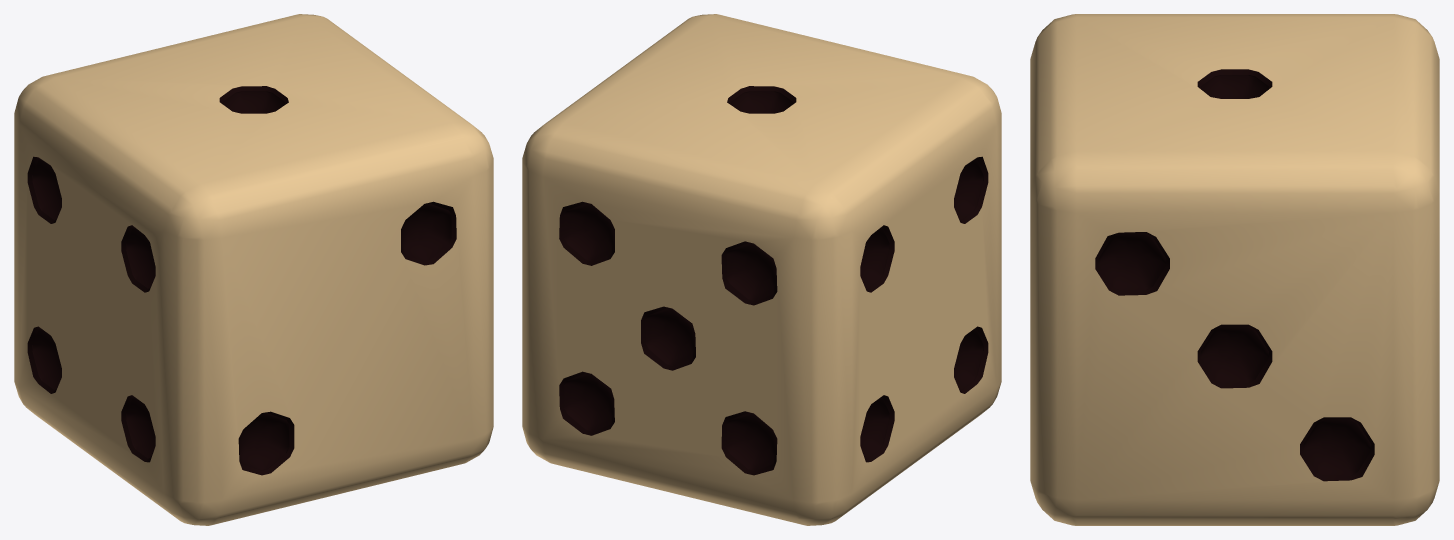
The model's file is dice.glb.
The picture shows the model from 3 angles, left to right: view 1: azimuth 30°, elevation 25°; view 2: azimuth 150°, elevation 25°; view 3: azimuth 270°, elevation 25°; orthographic projection. The views are drawn at different scales.
Parts seen in each view (by area): view 1: Dice; view 2: Dice; view 3: Dice.
Boxes of the visible parts, box(x1,y1,x2,y2) form: Dice: box(14, 14, 493, 525); Dice: box(522, 14, 1001, 525); Dice: box(1030, 14, 1439, 525).
Size of the model in its own units: 2 by 2 by 2.
